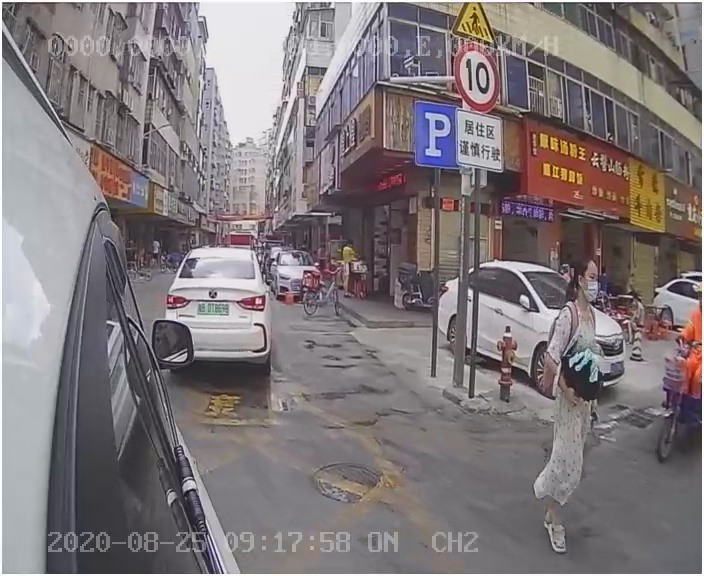person: (525, 257, 632, 558)
